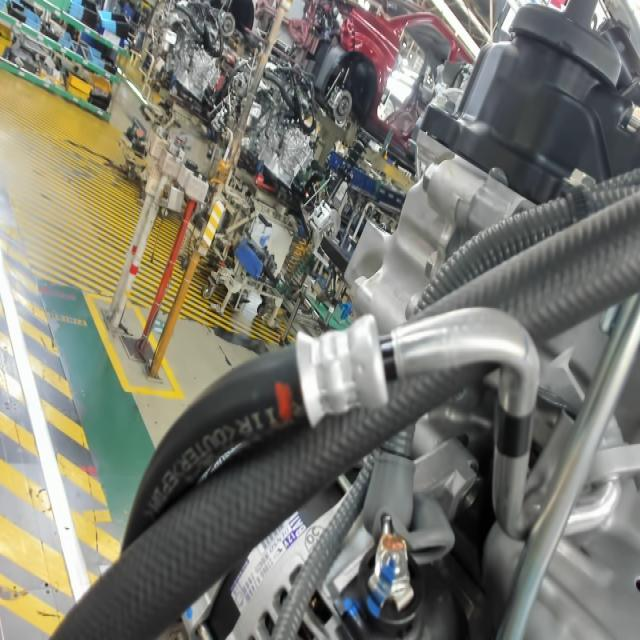Alternator-BA1: (283, 513, 308, 552)
Hose Discharge-HT: (492, 400, 538, 466)
